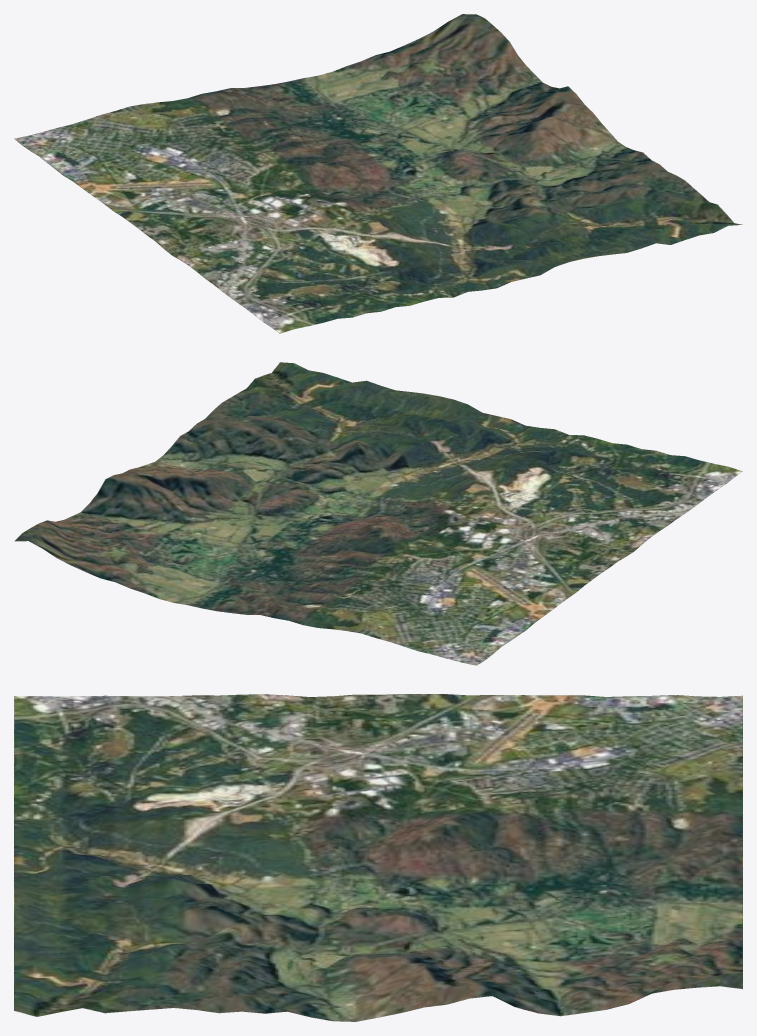
3 views of the same model, one above another, from view 1: azimuth 30°, elevation 25°; view 2: azimuth 150°, elevation 25°; view 3: azimuth 270°, elevation 25° (orthographic). The views are drawn at different scales.
Bounding box in the file's own units: 7808 × 447 × 7772.
1 material, 1 textured.
